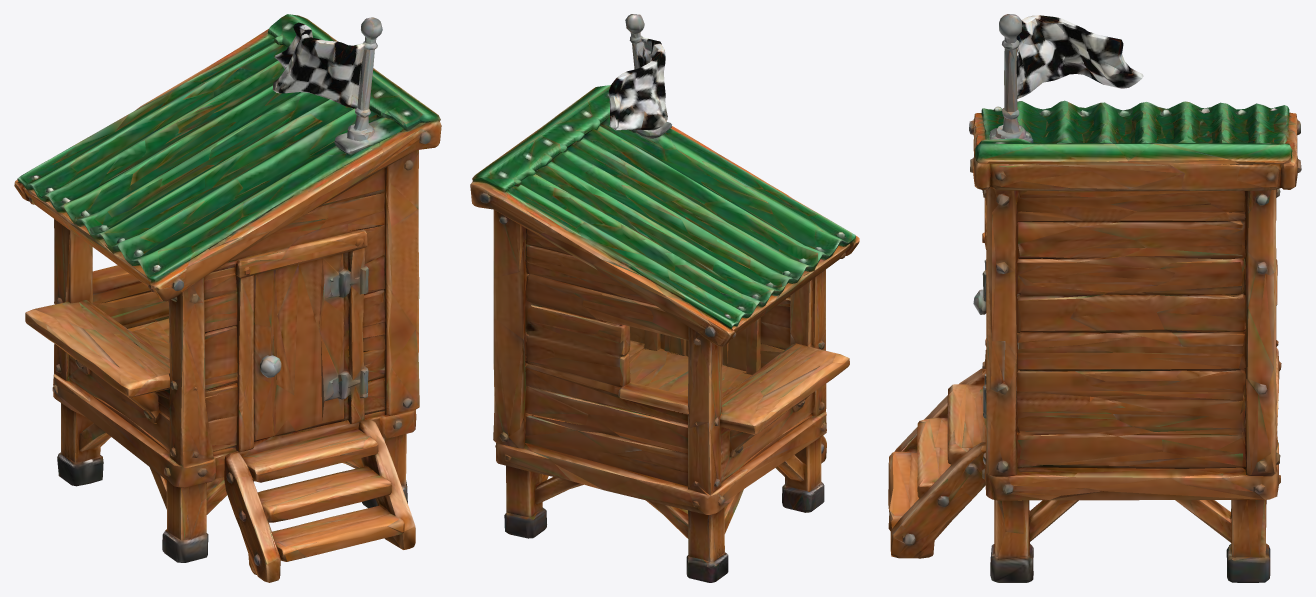
The model's file is prop-hut.glb.
3 views of the same model, side by side, from view 1: azimuth 30°, elevation 25°; view 2: azimuth 150°, elevation 25°; view 3: azimuth 270°, elevation 25° (orthographic). The views are drawn at different scales.
Size of the model in its own units: 1.2 by 1.9 by 1.29.
Materials: 1 (1 with a texture image).
